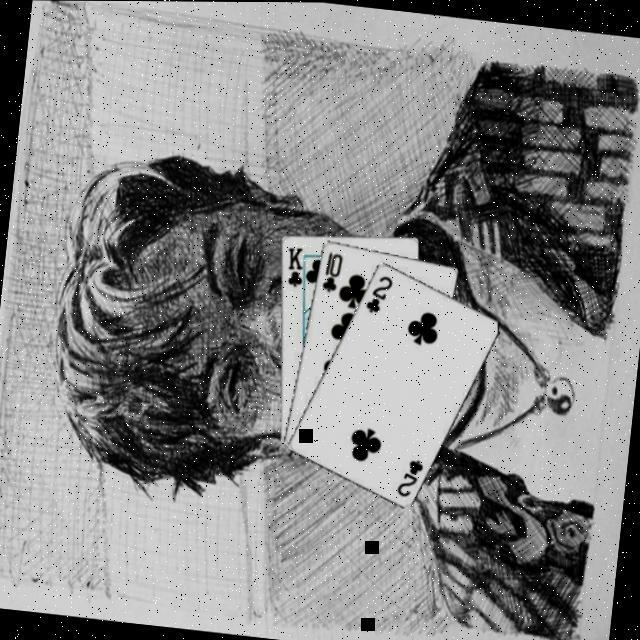10C: (317, 249, 344, 295)
2C: (392, 454, 426, 501), (360, 270, 394, 316)
KC: (280, 242, 312, 294)
